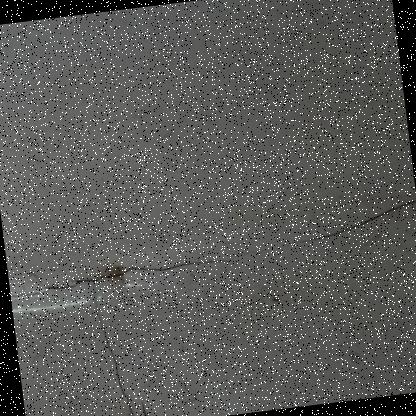Crack: (2, 213, 257, 415), (241, 142, 415, 320)
